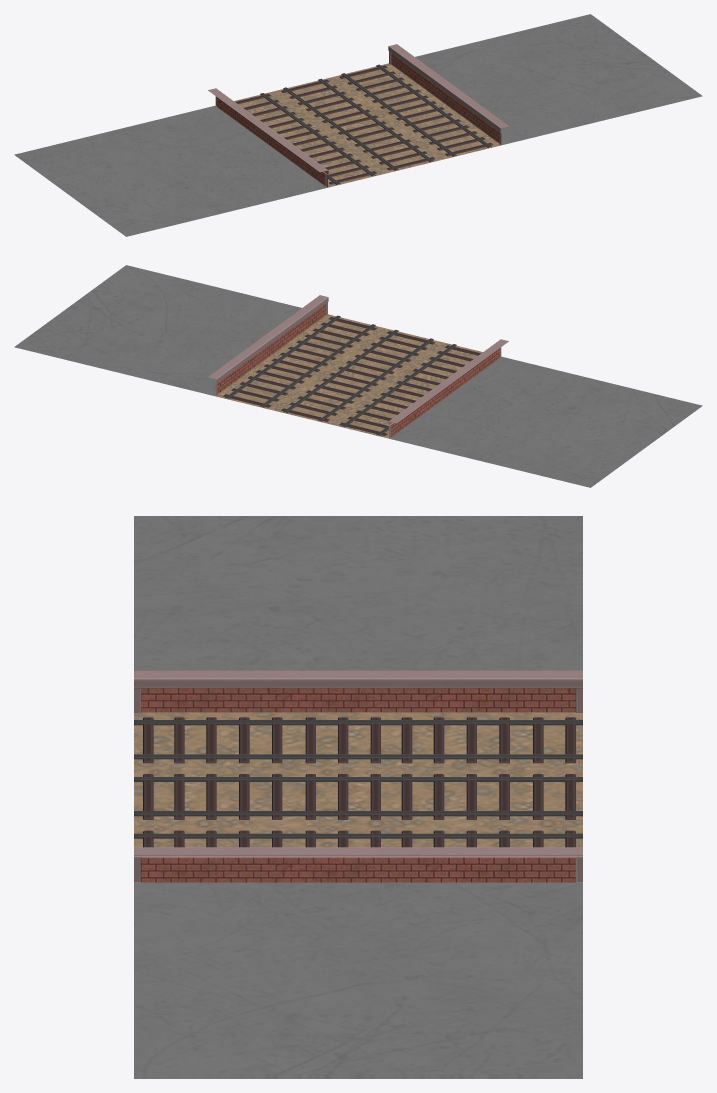
Rendered from road02.fbx.
3 views of the same model, one above another, from view 1: azimuth 30°, elevation 25°; view 2: azimuth 150°, elevation 25°; view 3: azimuth 270°, elevation 25° (orthographic). The views are drawn at different scales.
Parts seen in each view (by area): view 1: Road02; view 2: Road02; view 3: Road02.
Boxes of the visible parts, bbox=[...] form: Road02: bbox=[14, 14, 702, 236]; Road02: bbox=[14, 265, 702, 487]; Road02: bbox=[134, 516, 582, 1078].
Bounding box in the file's own units: 2669 × 76.22 × 900.
